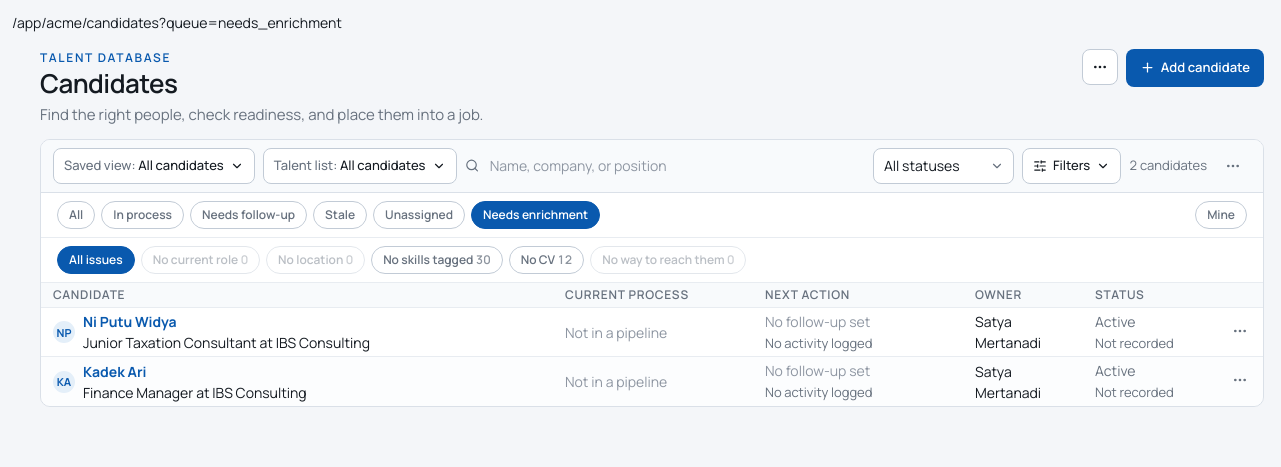
CandidatesPage data quality › narrows the list to one issue, and says so in the URL and the chips
This screenshot has width=1281, height=467.
What coordinates should you click on to do the following:
click the button "No CV 12"
I would click on:
 (546, 260)
Its box is [509, 246, 584, 274].
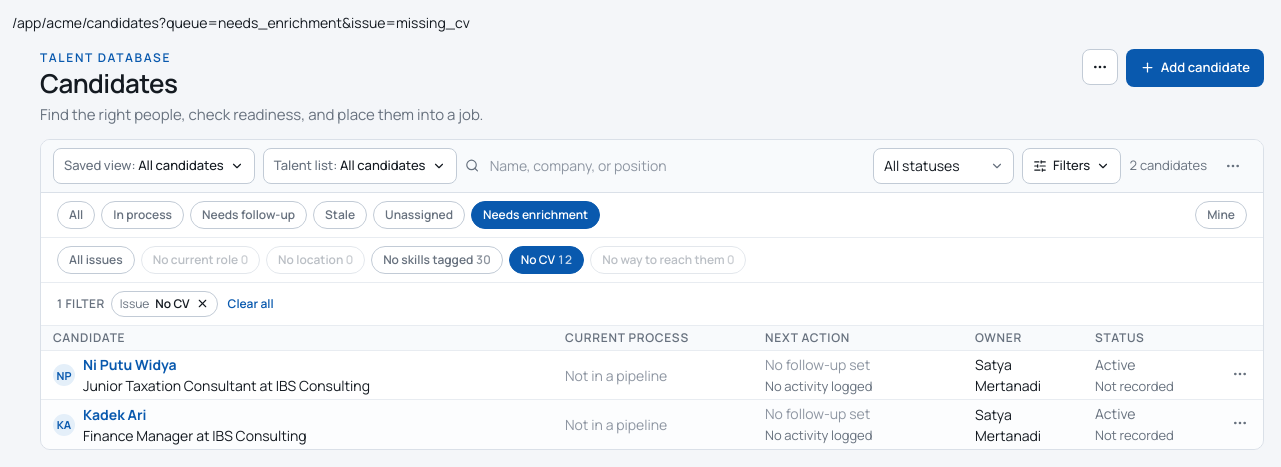
Check: the text with test id "search" shows "issue=missing_cv", box [159, 13, 470, 32]
Check: the button with aria-label "Remove Issue filter: No CV" is shown, box [111, 291, 218, 317]
